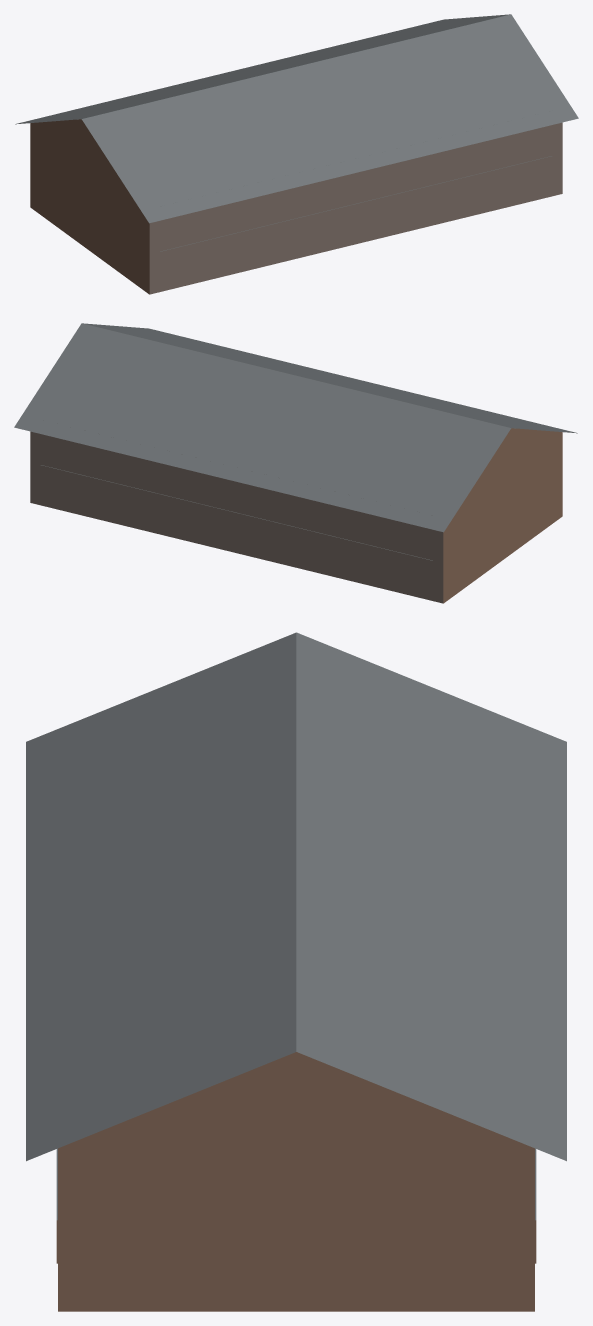
Rendered from fish-market.far-facades-v2.lod2.glb.
3 views of the same model, one above another, from view 1: azimuth 30°, elevation 25°; view 2: azimuth 150°, elevation 25°; view 3: azimuth 270°, elevation 25° (orthographic). The views are drawn at different scales.
Parts seen in each view (by area): view 1: fish-market; view 2: fish-market; view 3: fish-market.
Boxes of the visible parts, x1,y1,x2,y2 form: fish-market: [15, 14, 578, 294]; fish-market: [14, 323, 577, 603]; fish-market: [26, 632, 566, 1311].
Size of the model in its own units: 24.96 by 7.43 by 13.6.
